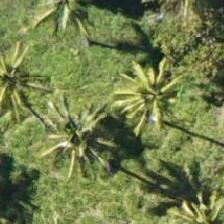coconut_tree: (34, 95, 124, 185), (106, 49, 196, 139), (0, 32, 51, 122)
